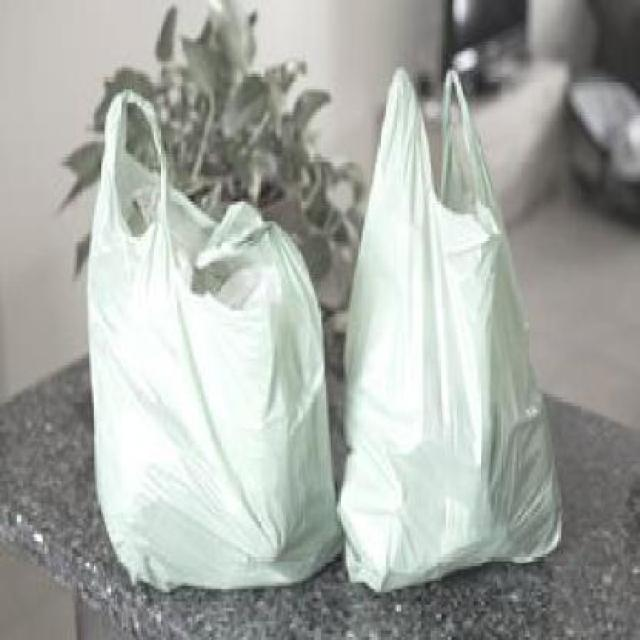plastic bag: (80, 88, 352, 610), (328, 58, 574, 604)
